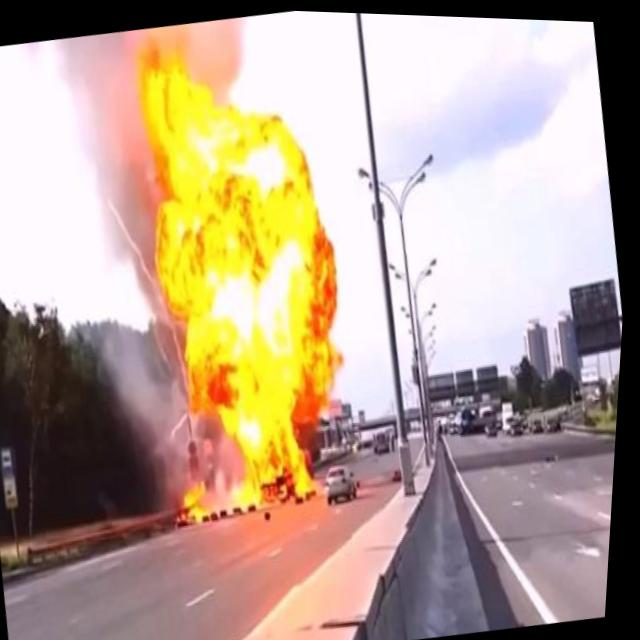fire: (98, 24, 391, 536)
